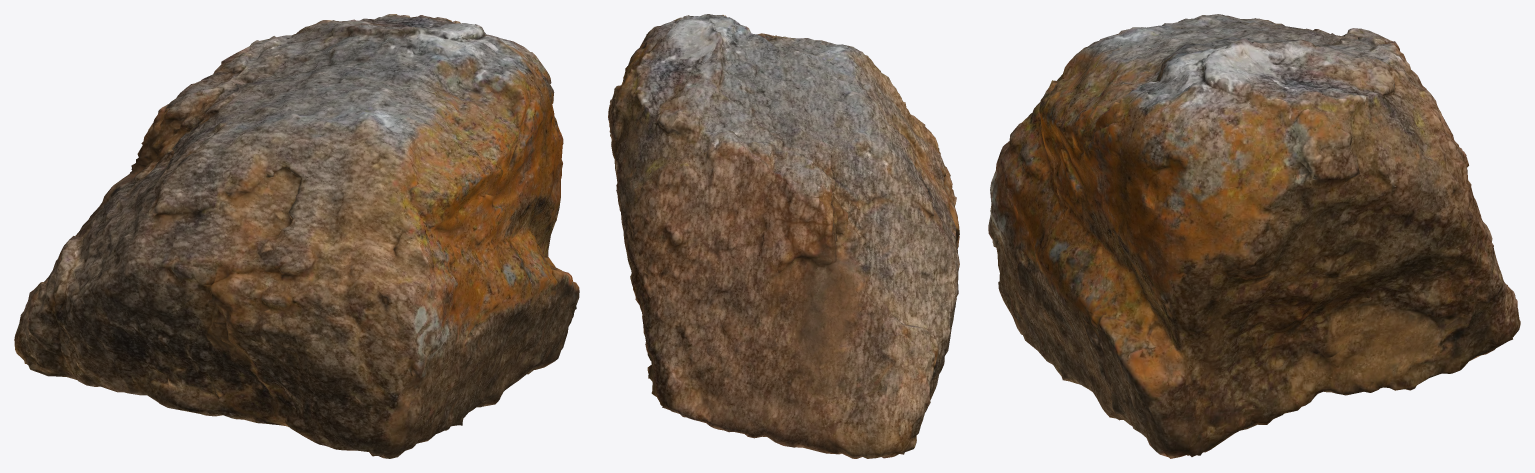
The model's file is boulder-04.glb.
3 views of the same model, side by side, from view 1: azimuth 30°, elevation 25°; view 2: azimuth 150°, elevation 25°; view 3: azimuth 270°, elevation 25° (orthographic). The views are drawn at different scales.
Visible parts, largest first — view 1: boulder_04; view 2: boulder_04; view 3: boulder_04.
Boxes of the visible parts, x1=… form: boulder_04: x1=14, y1=14, x2=579, y2=458; boulder_04: x1=608, y1=14, x2=959, y2=458; boulder_04: x1=988, y1=14, x2=1520, y2=458.
Bounding box in the file's own units: 2.52 × 1.9 × 2.5.
1 material, 1 textured.
